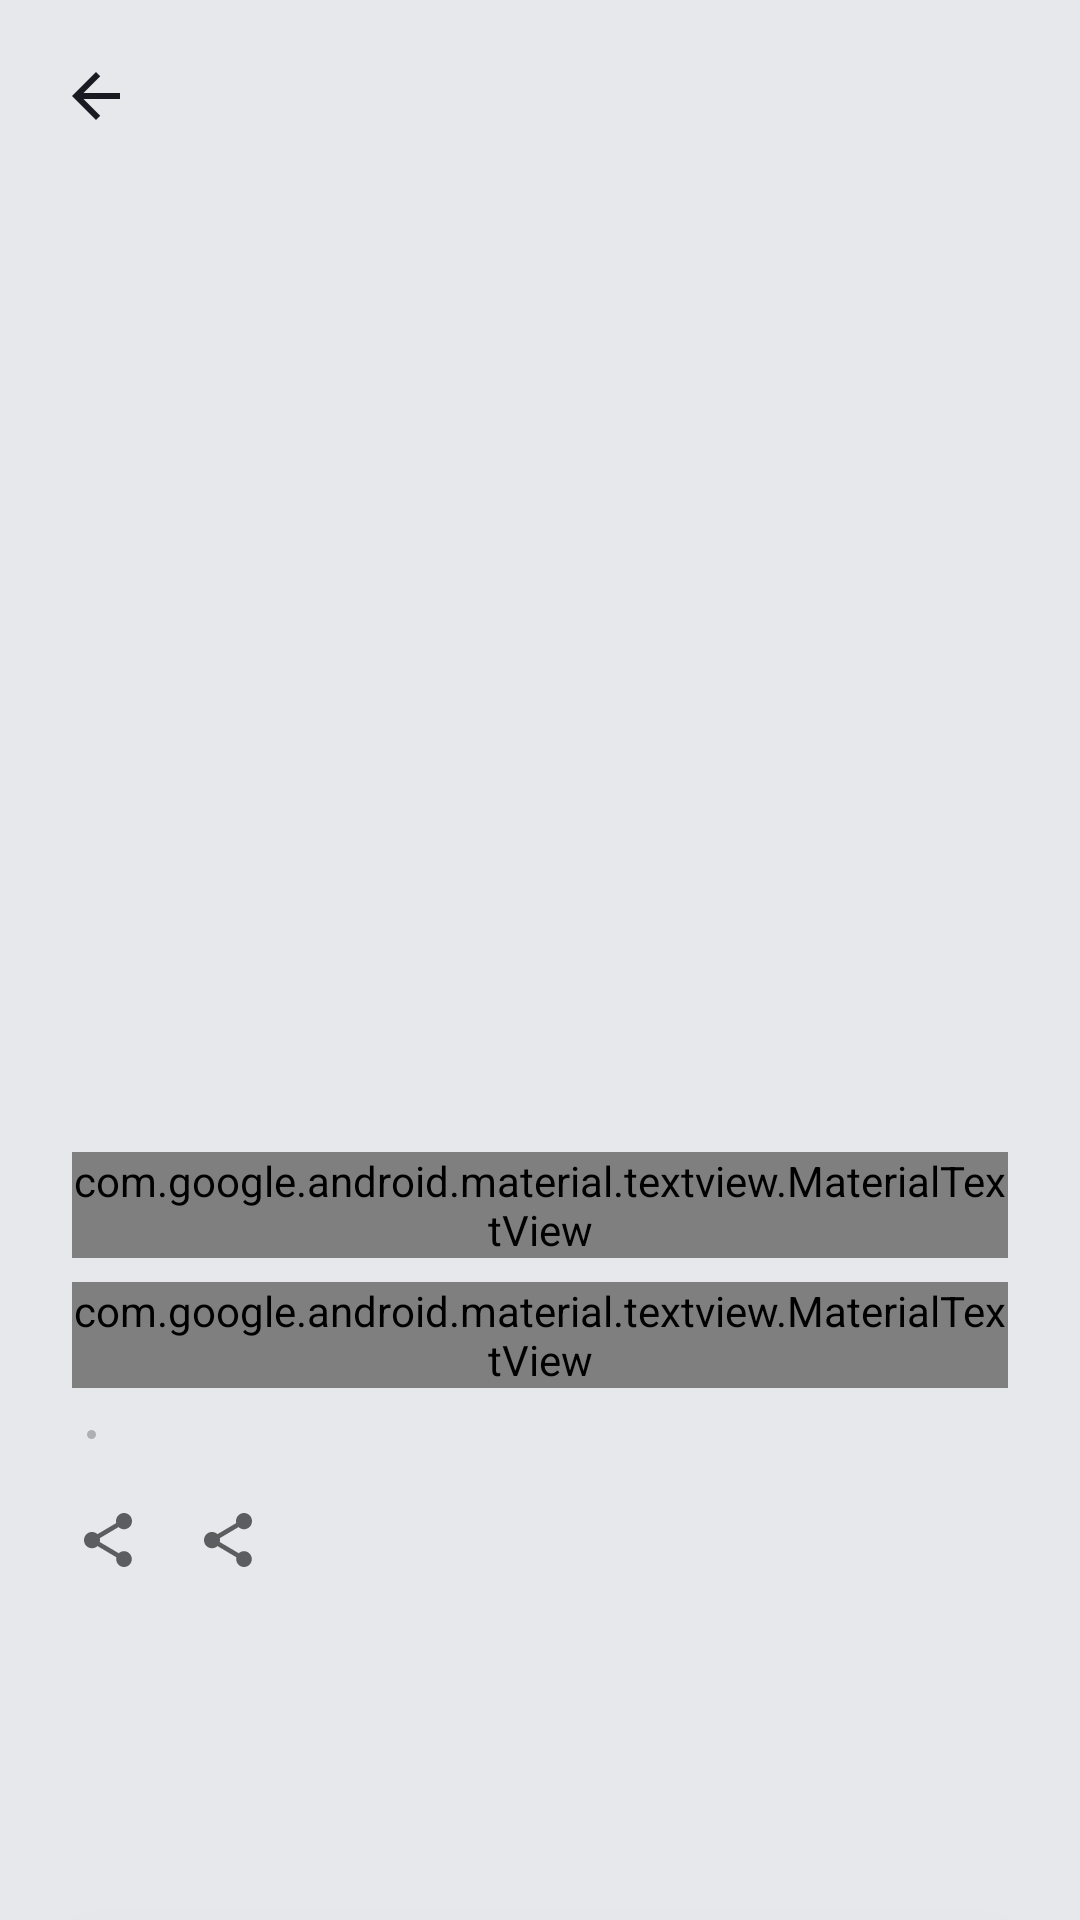

Screen size 1080 x 1920. Icon name, then its center in pixels as [x,y]:
share: [108,1540], [228,1540]
